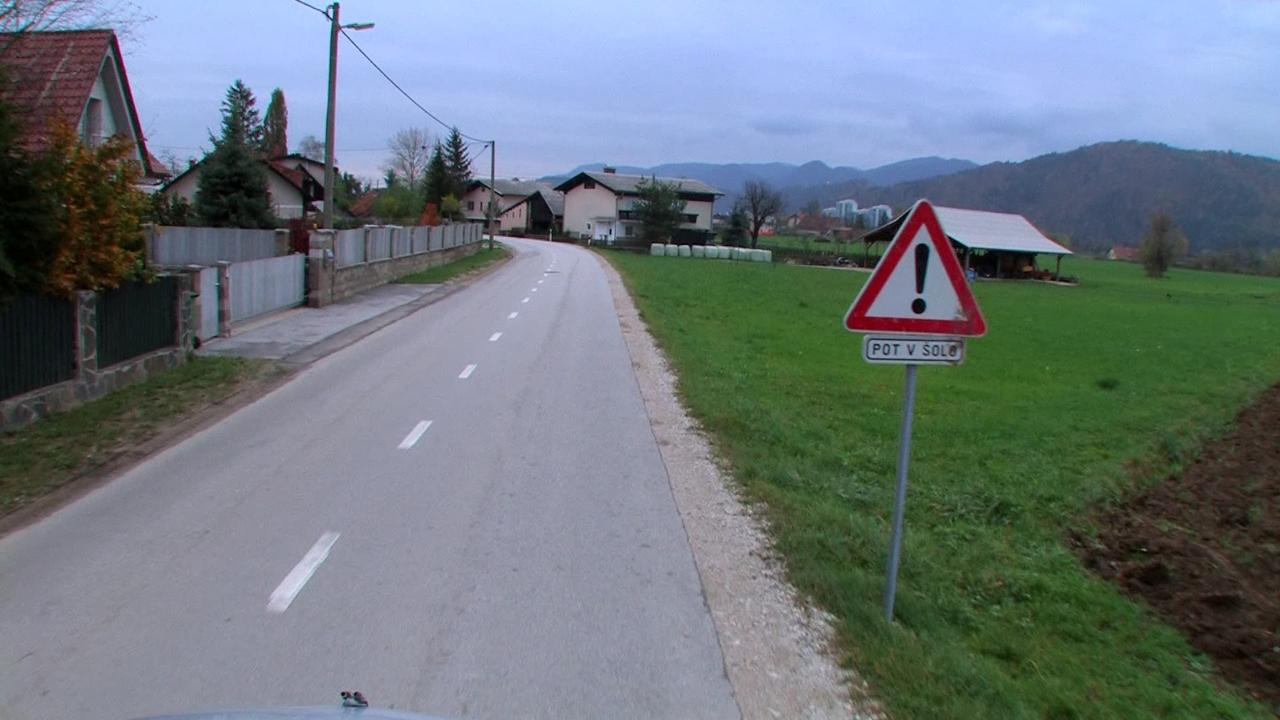Rectangle: (865, 330, 969, 368)
Triangle: (843, 200, 989, 342)
